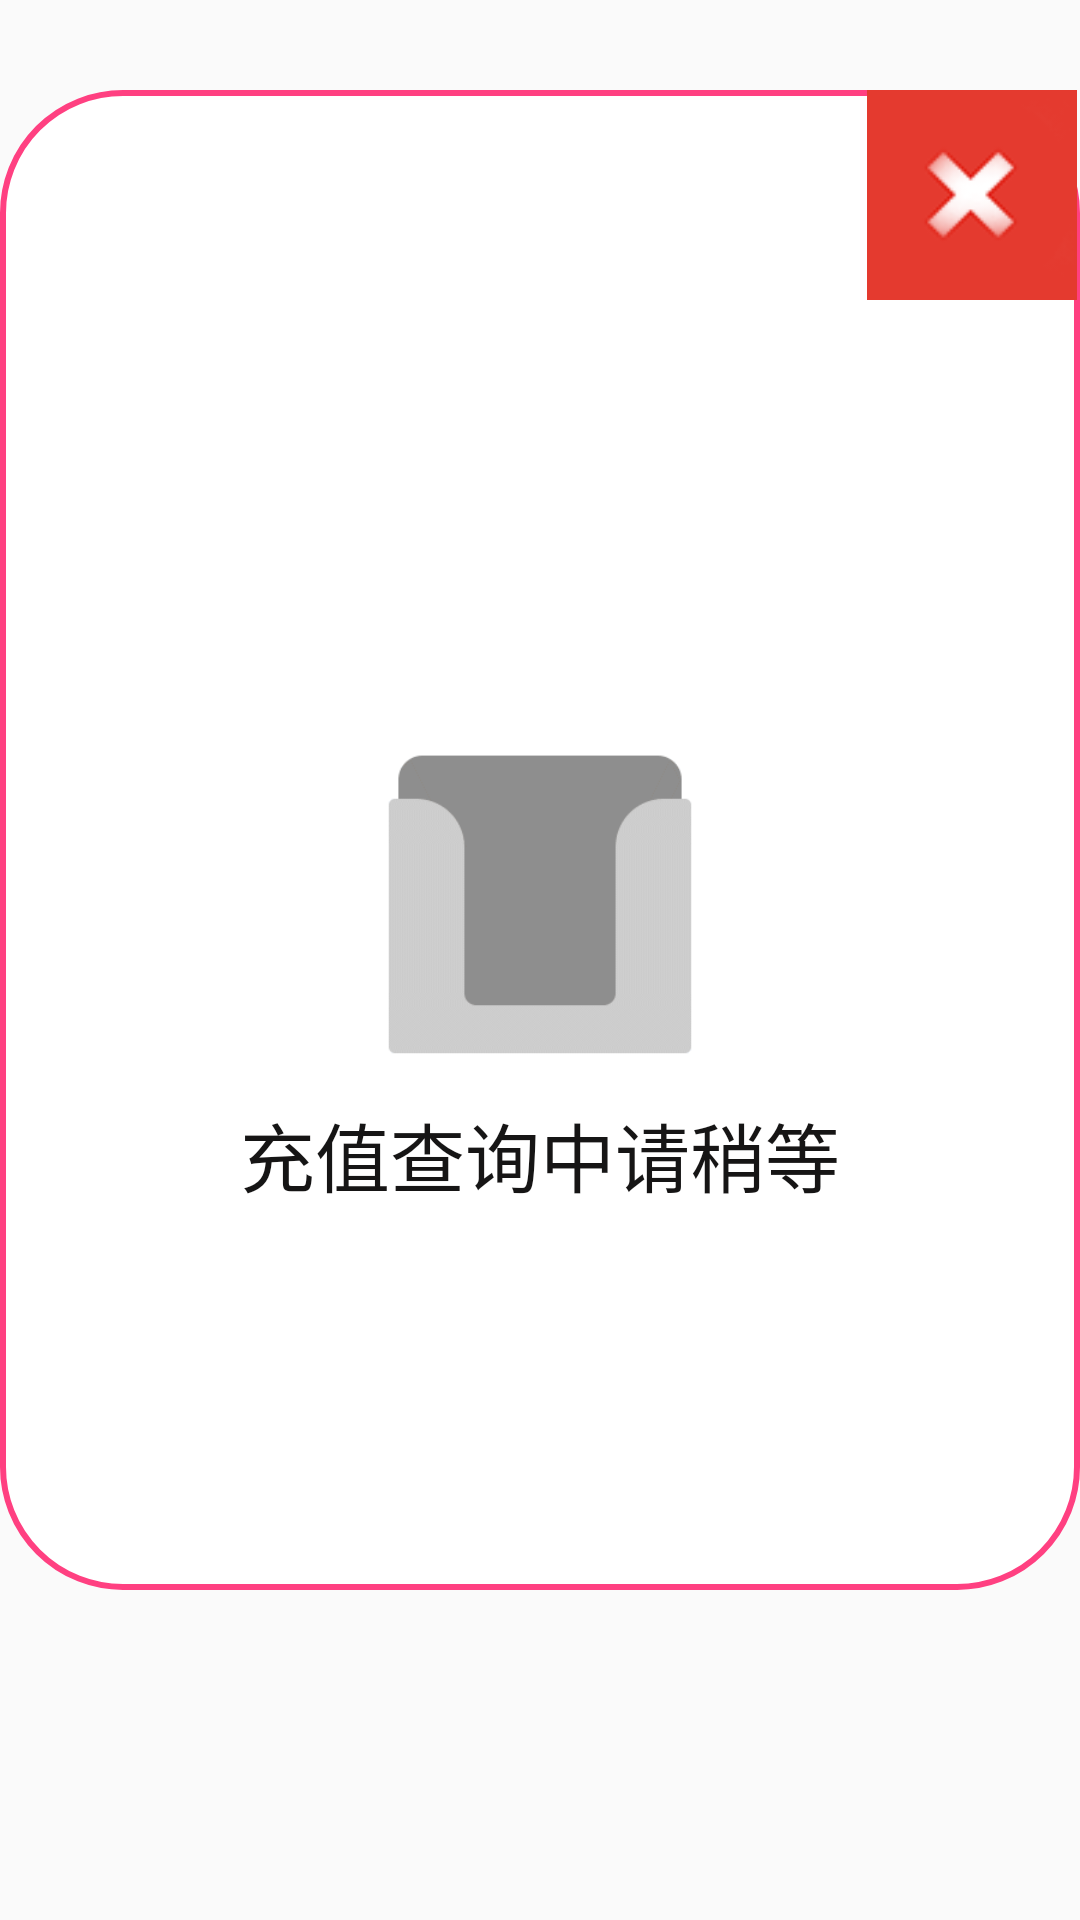

Where icons sit on this 1080px×1920px app screen, as (x1, y1, x2, y2):
card tip: (389, 755, 691, 1053)
